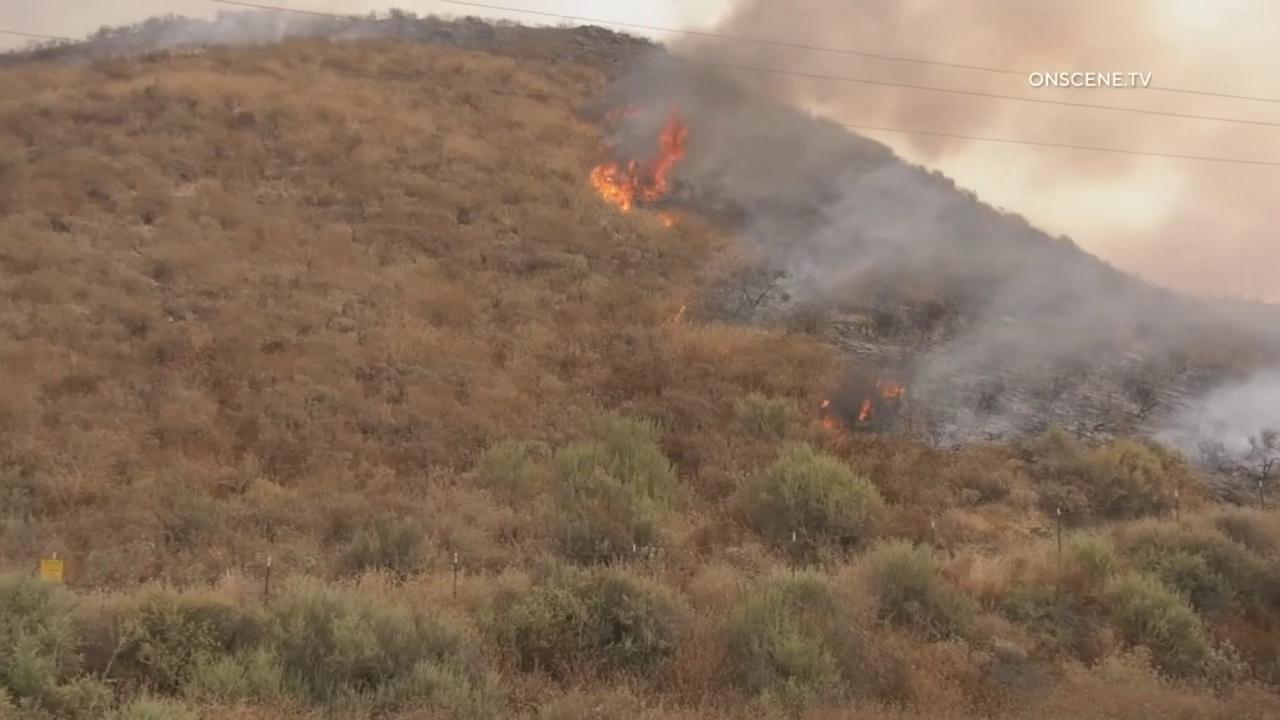fire: (589, 102, 688, 210), (875, 377, 906, 399), (858, 398, 870, 421), (656, 212, 673, 227), (823, 414, 836, 432), (820, 399, 829, 409)
smoke: (572, 0, 1280, 468), (0, 0, 396, 61)
